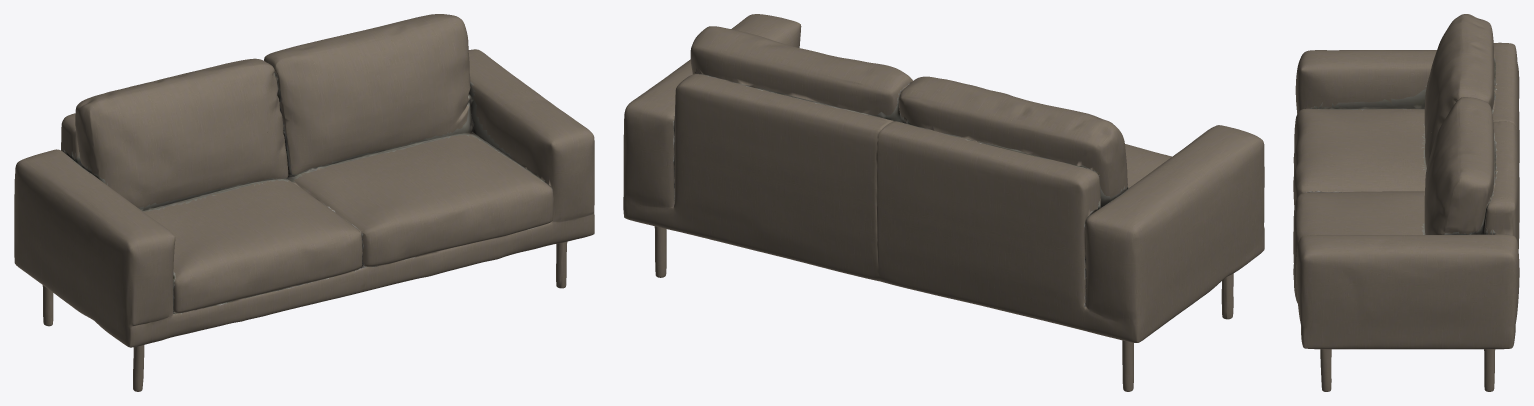
3 views of the same model, side by side, from view 1: azimuth 30°, elevation 25°; view 2: azimuth 150°, elevation 25°; view 3: azimuth 270°, elevation 25° (orthographic). The views are drawn at different scales.
Parts seen in each view (by area): view 1: tripo_node_dba4503c-7e7b-4ea5-973c-efb96fd32d18; view 2: tripo_node_dba4503c-7e7b-4ea5-973c-efb96fd32d18; view 3: tripo_node_dba4503c-7e7b-4ea5-973c-efb96fd32d18.
Part boxes in pixels (left/top/right/bottom): tripo_node_dba4503c-7e7b-4ea5-973c-efb96fd32d18: left=14, top=14, right=594, bottom=391; tripo_node_dba4503c-7e7b-4ea5-973c-efb96fd32d18: left=623, top=14, right=1264, bottom=391; tripo_node_dba4503c-7e7b-4ea5-973c-efb96fd32d18: left=1293, top=14, right=1519, bottom=391.
Size of the model in its own units: 1.75 by 0.8 by 0.8.
Materials: 2 (2 with a texture image).
